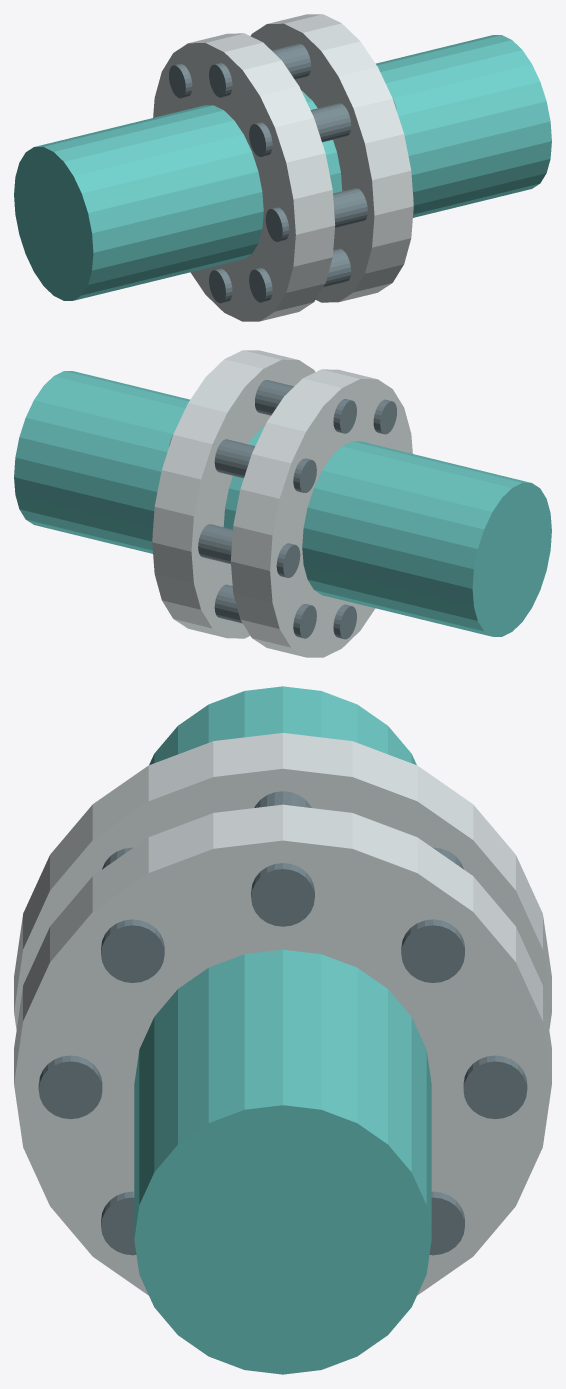
File: flange_joint.glb
3 views of the same model, one above another, from view 1: azimuth 30°, elevation 25°; view 2: azimuth 150°, elevation 25°; view 3: azimuth 270°, elevation 25° (orthographic). The views are drawn at different scales.
Parts seen in each view (by area): view 1: flange_pipe, flange_ring_0, flange_ring_1, flange_bolt_0_7, flange_bolt_0_6, flange_bolt_0_0, flange_bolt_0_5, flange_bolt_0_4, flange_bolt_0_1; view 2: flange_pipe, flange_ring_0, flange_ring_1, flange_bolt_0_1, flange_bolt_0_2, flange_bolt_0_0, flange_bolt_0_3, flange_bolt_0_4, flange_bolt_0_7; view 3: flange_pipe, flange_ring_1, flange_ring_0, flange_bolt_0_0, flange_bolt_0_1, flange_bolt_0_7, flange_bolt_0_2, flange_bolt_0_6, flange_bolt_0_3, flange_bolt_0_5.
Part boxes in pixels (x1,y1,x2,y2): flange_pipe: (14, 35, 551, 300); flange_ring_0: (153, 33, 335, 321); flange_ring_1: (250, 14, 413, 302); flange_bolt_0_7: (249, 98, 396, 156); flange_bolt_0_6: (265, 188, 413, 241); flange_bolt_0_0: (209, 44, 310, 97); flange_bolt_0_5: (249, 248, 351, 302); flange_bolt_0_4: (209, 268, 232, 303); flange_bolt_0_1: (169, 63, 192, 98); flange_pipe: (14, 371, 551, 636); flange_ring_0: (230, 369, 412, 657); flange_ring_1: (152, 350, 315, 638); flange_bolt_0_1: (169, 434, 316, 492); flange_bolt_0_2: (152, 524, 300, 577); flange_bolt_0_0: (255, 380, 356, 433); flange_bolt_0_3: (214, 584, 316, 638); flange_bolt_0_4: (333, 604, 356, 639); flange_bolt_0_7: (373, 399, 396, 434); flange_pipe: (134, 686, 431, 1374); flange_ring_1: (14, 804, 551, 1295); flange_ring_0: (14, 733, 551, 1029); flange_bolt_0_0: (251, 791, 314, 926); flange_bolt_0_1: (401, 847, 464, 982); flange_bolt_0_7: (101, 847, 164, 982); flange_bolt_0_2: (463, 1055, 527, 1119); flange_bolt_0_6: (38, 1055, 102, 1119); flange_bolt_0_3: (429, 1191, 464, 1255); flange_bolt_0_5: (101, 1191, 136, 1255).
Size of the model in its own units: 1.4 by 0.76 by 0.76.
